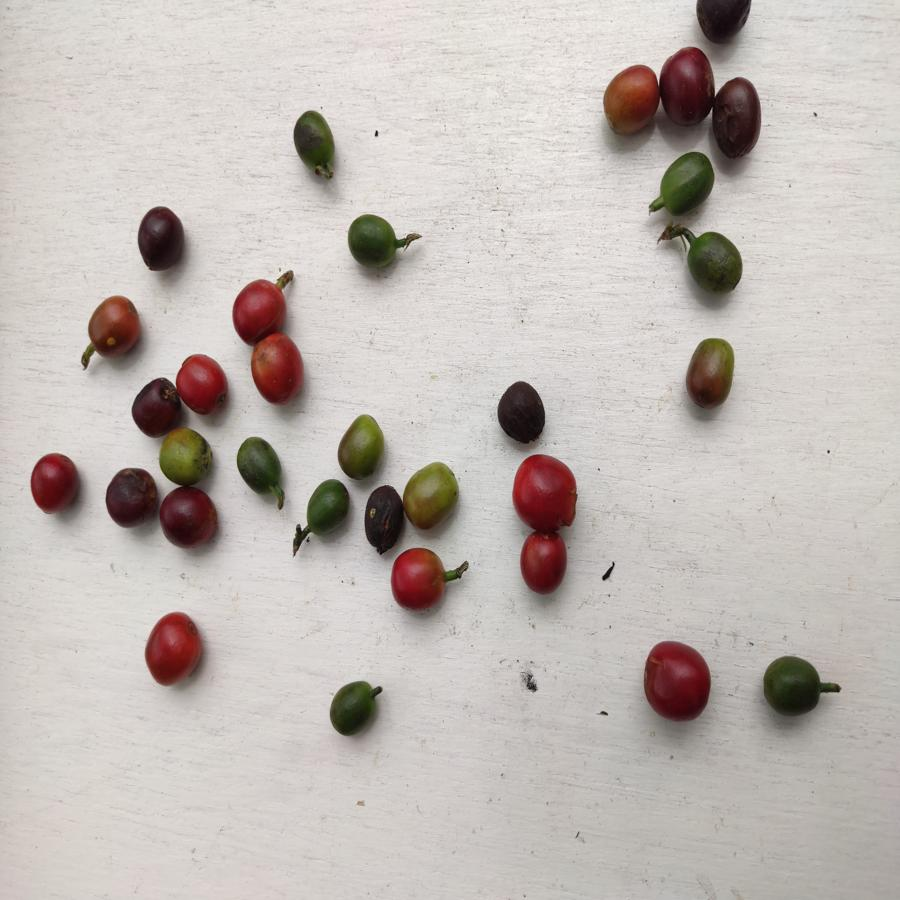Inmaduro: (684, 227, 745, 301), (760, 652, 826, 717), (658, 149, 716, 219), (235, 434, 289, 503), (347, 208, 401, 273), (303, 479, 353, 544), (327, 677, 379, 737), (290, 110, 338, 169)
Maduro: (640, 638, 714, 726), (511, 450, 582, 533), (143, 608, 204, 690), (248, 331, 304, 408), (388, 546, 449, 610), (518, 527, 571, 596), (26, 452, 83, 516), (230, 274, 286, 337), (176, 353, 229, 419)
Pinton: (600, 59, 659, 136), (403, 455, 461, 532), (85, 293, 143, 361), (683, 336, 736, 408), (336, 414, 385, 481), (159, 428, 214, 487)
Sobremaduro: (660, 47, 714, 130), (712, 72, 761, 159), (156, 487, 220, 550), (102, 467, 159, 529), (495, 378, 548, 443), (137, 206, 185, 277), (362, 482, 408, 550), (132, 376, 183, 435), (696, 1, 755, 47)
